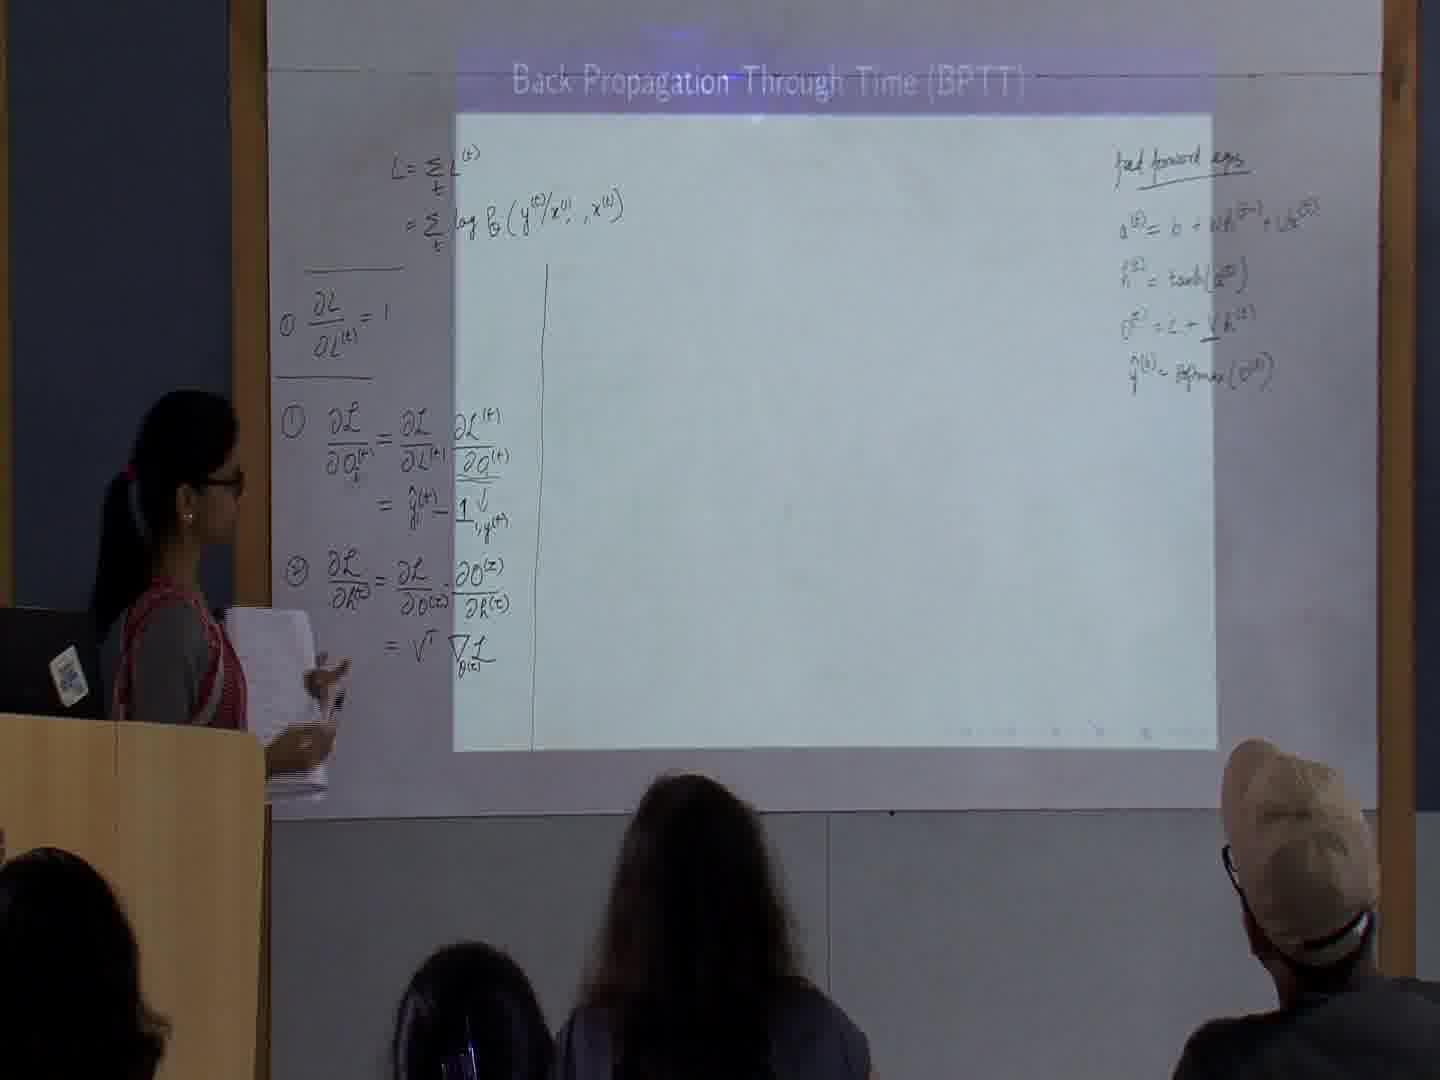slide: (454, 41, 1214, 748)
